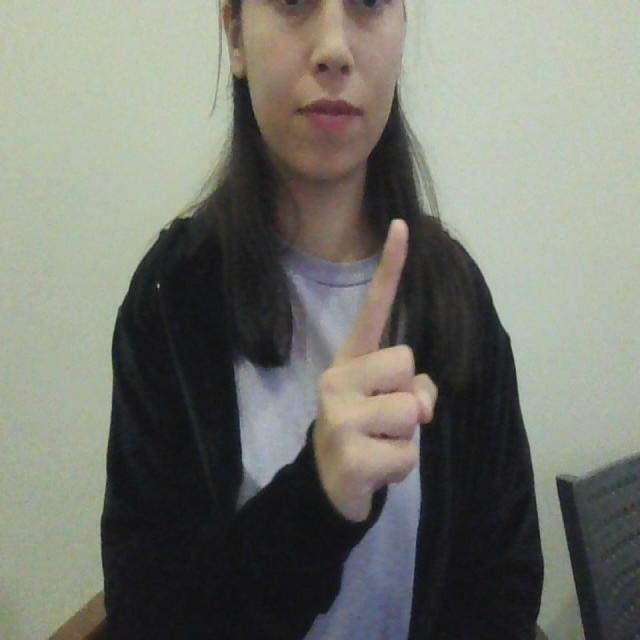Hayir: (308, 202, 448, 546)
